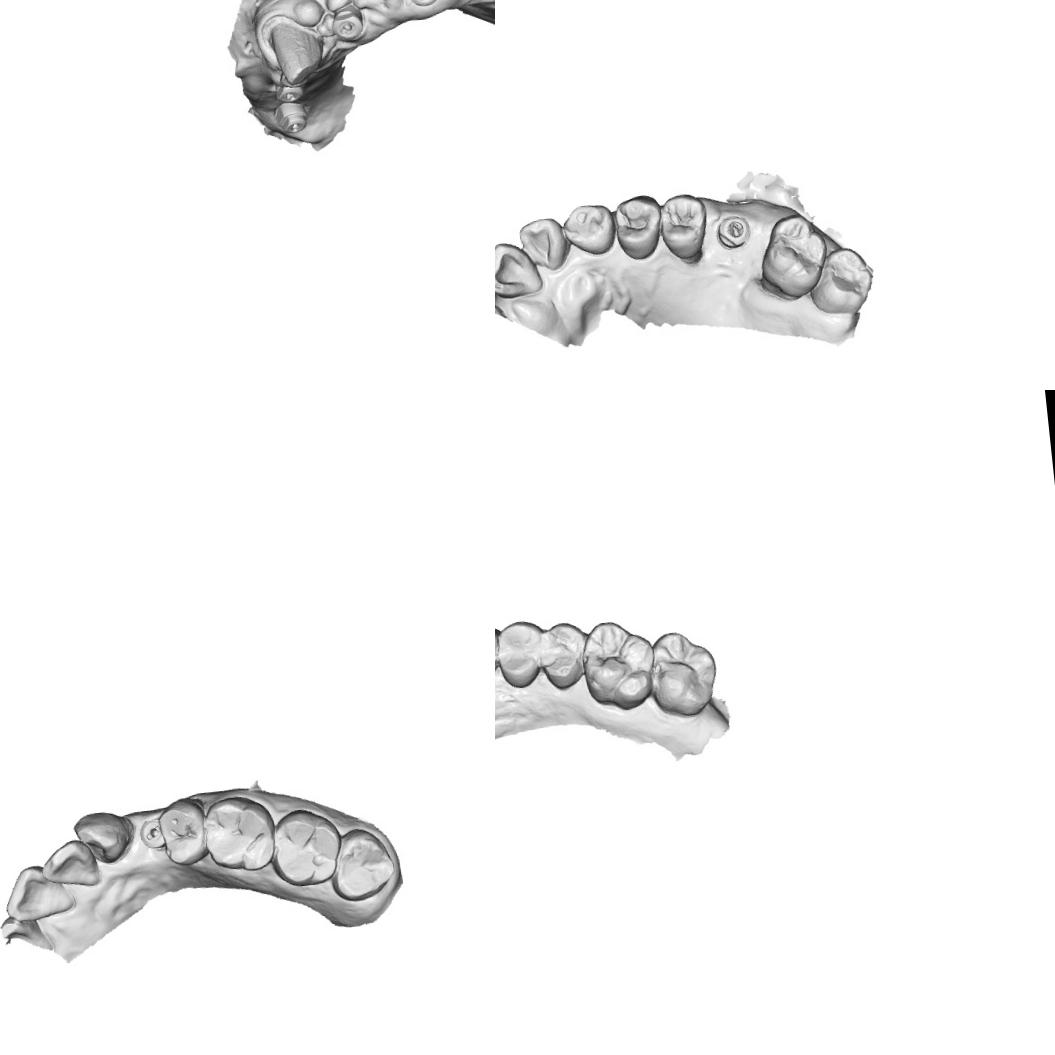canine: (69, 803, 136, 867), (560, 200, 618, 259), (495, 616, 506, 683)
crown: (260, 9, 330, 90)
implant: (714, 212, 754, 251)
implant_minus: (328, 2, 367, 44), (271, 98, 310, 136), (136, 816, 168, 850)
implant_plus: (403, 0, 445, 10)
incisor: (0, 860, 78, 925), (38, 836, 103, 892), (515, 214, 571, 275), (495, 237, 545, 302)
molar: (577, 615, 664, 716), (642, 625, 724, 722), (754, 212, 833, 303), (266, 803, 346, 890), (200, 791, 280, 876), (325, 824, 398, 904), (804, 244, 878, 319)
premolar: (536, 616, 593, 695), (655, 190, 712, 266), (152, 795, 208, 872), (495, 615, 548, 693), (612, 192, 666, 262)
